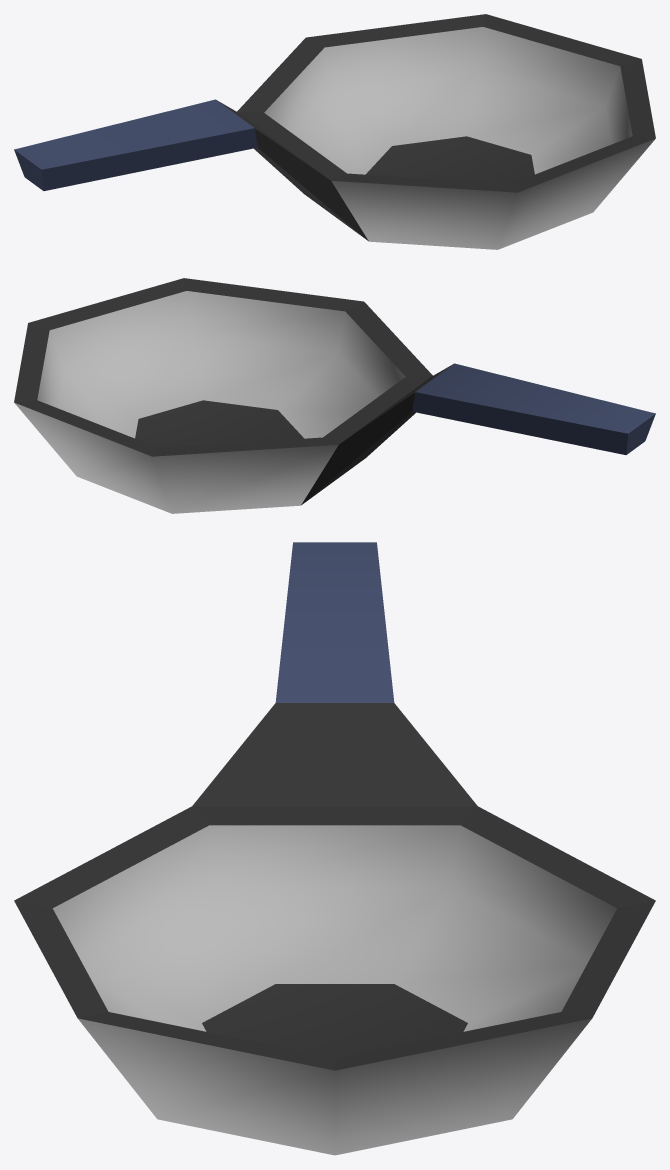
The model's file is Frying_Pan.fbx.
3 renders of one model, top to bottom at view 1: azimuth 30°, elevation 25°; view 2: azimuth 150°, elevation 25°; view 3: azimuth 270°, elevation 25°, orthographic. The views are drawn at different scales.
Parts seen in each view (by area): view 1: Frying_Pan; view 2: Frying_Pan; view 3: Frying_Pan.
Boxes of the visible parts, x1,y1,x2,y2 form: Frying_Pan: (14,14,655,249); Frying_Pan: (14,278,655,513); Frying_Pan: (14,542,655,1155).
Size of the model in its own units: 92.27 by 19.18 by 55.16.
